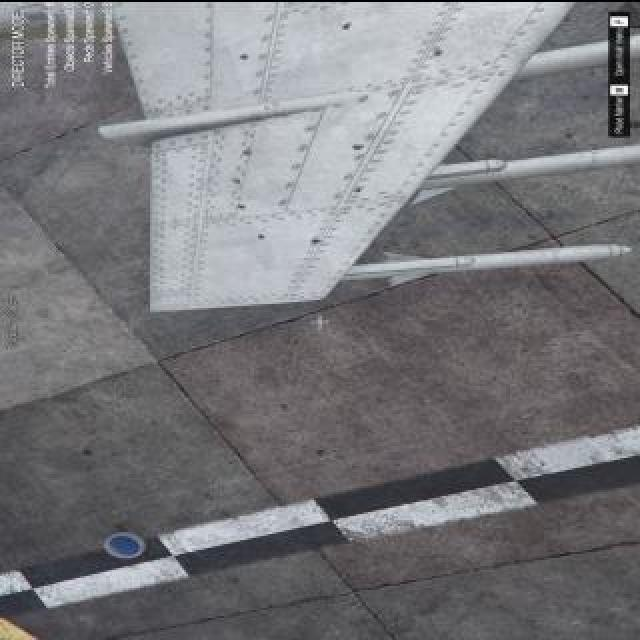crack: (431, 46, 449, 58), (338, 20, 352, 32), (228, 175, 248, 183), (241, 148, 257, 156), (350, 143, 364, 151), (310, 237, 326, 243), (238, 201, 250, 209), (351, 187, 365, 191), (238, 53, 252, 57), (257, 234, 269, 238)
